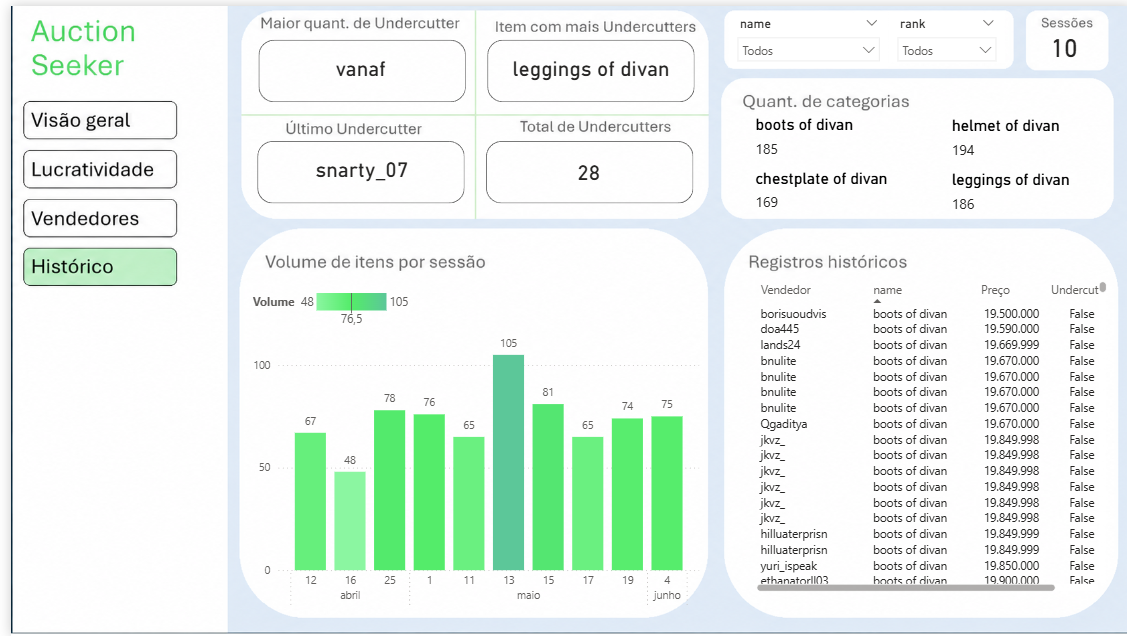

What the dashboard file says about the page in this screenshot:
{"tool":"powerbi","page":{"name":"pagina 4","canvas":[1280,720],"ordinal":3},"visuals":[{"type":"shape","box":[544.3,38.6,237.1,71.4],"z":0},{"type":"shape","box":[282.9,38.6,237.1,71.4],"z":1000},{"type":"shape","box":[281.4,154.3,237.1,71.4],"z":2000},{"type":"shape","box":[542.9,154.3,237.1,71.4],"z":3000},{"type":"actionButton","box":[17.5,110,172.5,45],"z":4000},{"type":"actionButton","box":[19.2,275.8,171.5,43.9],"z":5000},{"type":"actionButton","box":[17.5,224.2,172.5,40.8],"z":6000},{"type":"actionButton","box":[17.8,166,172.9,48],"z":7000},{"type":"columnChart","fields":{"Y":["CountNonNull(public auction_items.id)"],"Category":["public auction_items.scan_timestamp.Variation.Hierarquia de datas.Mês","public auction_items.scan_timestamp.Variation.Hierarquia de datas.Dia"]},"box":[271.7,319.7,520.1,376],"z":8000},{"type":"card","fields":{"Values":["Count(public auction_items.scan_timestamp)"]},"box":[1171.4,27.1,64.3,38.6],"z":9000},{"type":"multiRowCard","fields":{"Values":["Count(public auction_items.id)","public auction_items.name"]},"box":[846.4,120,167.3,60.9],"z":10000},{"type":"multiRowCard","fields":{"Values":["public auction_items.name","Count(public auction_items.id)"]},"box":[1070,121.4,151.4,60],"z":11000},{"type":"card","fields":{"Values":["public sellers.Ultimo Undercutter"]},"box":[271.7,160.5,259.3,53.5],"z":12000},{"type":"card","fields":{"Values":["public sellers.Maior Undercutter"]},"box":[288.2,41.2,222.3,64.5],"z":13000},{"type":"card","fields":{"Values":["public sellers.vTotal Undercutters"]},"box":[530,163,261,54],"z":14000},{"type":"card","fields":{"Values":["public sellers.vItem Mais Undercut"]},"box":[532.4,43.9,260.7,53.5],"z":15000},{"type":"tableEx","fields":{"Values":["public sellers.name","public auction_items.name","public auction_items.price","public auction_items.É Undercut","public auction_items.id"]},"box":[845.7,310,411.4,364.3],"z":16000},{"type":"slicer","fields":{"Values":["public sellers.name"]},"box":[820.6,6.9,182.5,63.1],"z":17000},{"type":"slicer","fields":{"Values":["public sellers.rank"]},"box":[1003.1,6.9,133.1,57.6],"z":18000},{"type":"multiRowCard","fields":{"Values":["Count(public auction_items.id)","public auction_items.name"]},"box":[845.7,180,168.6,61.4],"z":19000},{"type":"multiRowCard","fields":{"Values":["public auction_items.name","Count(public auction_items.id)"]},"box":[1070,184.3,151.4,60],"z":20000}]}

Visuals, with their boxes in screenshot pixels (x1, y1, x2, y2), scaled from the page's 1280x720 canvas onto the 1127x636 screenshot:
shape: 479,34,688,97
shape: 249,34,458,97
shape: 248,136,457,199
shape: 478,136,687,199
actionButton: 15,97,167,137
actionButton: 17,244,168,282
actionButton: 15,198,167,234
actionButton: 16,147,168,189
columnChart - CountNonNull(public auction_items.id) x public auction_items.scan_timestamp.Variation.Hierarquia de datas.Mês: 239,282,697,615
card - Count(public auction_items.scan_timestamp): 1031,24,1088,58
multiRowCard - Count(public auction_items.id) x public auction_items.name: 745,106,893,160
multiRowCard - public auction_items.name x Count(public auction_items.id): 942,107,1075,160
card - public sellers.Ultimo Undercutter: 239,142,468,189
card - public sellers.Maior Undercutter: 254,36,449,93
card - public sellers.vTotal Undercutters: 467,144,696,192
card - public sellers.vItem Mais Undercut: 469,39,698,86
tableEx - public sellers.name x public auction_items.name: 745,274,1107,596
slicer - public sellers.name: 723,6,883,62
slicer - public sellers.rank: 883,6,1000,57
multiRowCard - Count(public auction_items.id) x public auction_items.name: 745,159,893,213
multiRowCard - public auction_items.name x Count(public auction_items.id): 942,163,1075,216
